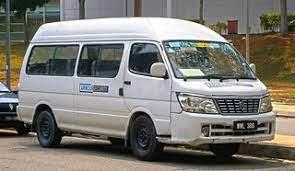van: (18, 16, 278, 156)
